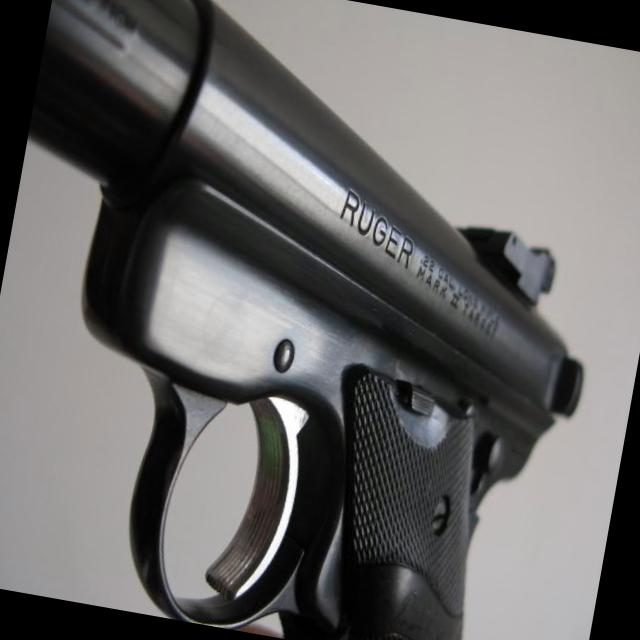Gun: (28, 0, 581, 640)
